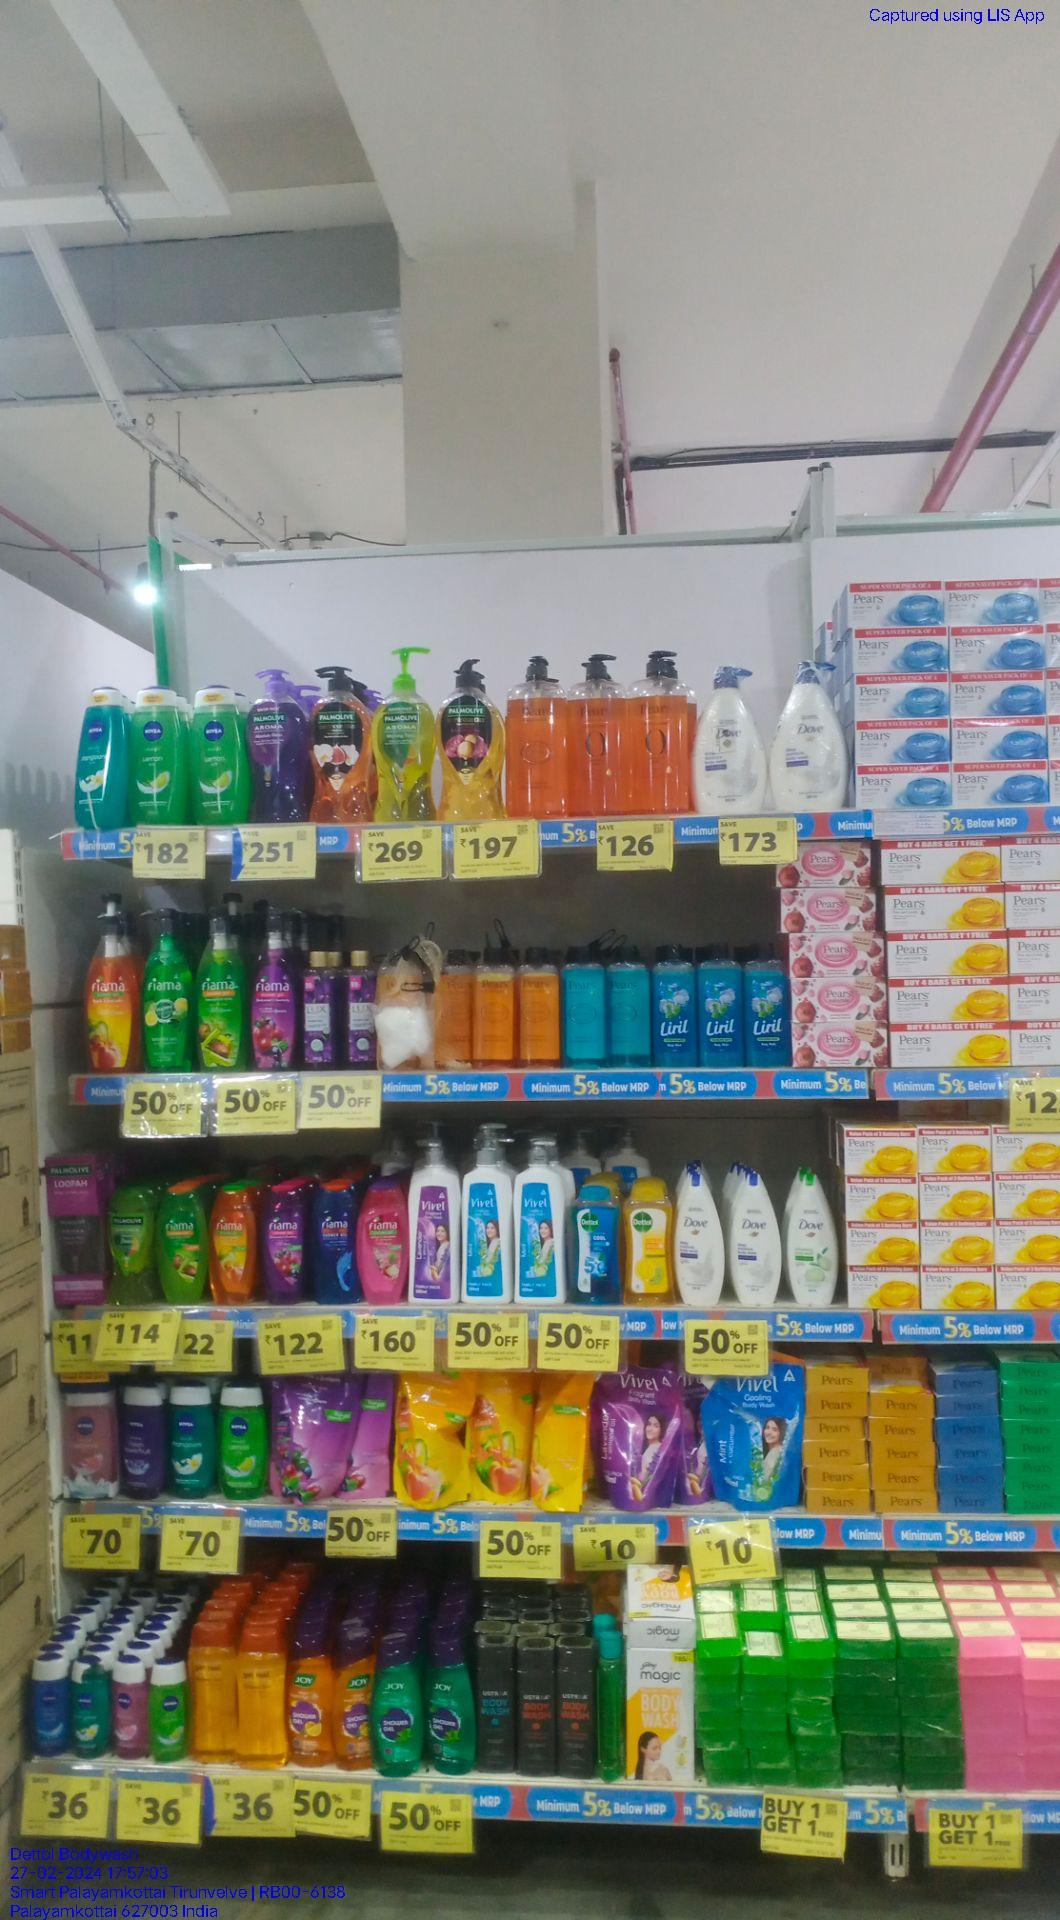Dettol_Bodywash_Cool: (569, 1186, 616, 1308)
Dettol_Bodywash_Refresh: (621, 1180, 672, 1309)
Dove_Deep_Moisture_Body_Wash_250ML: (730, 1169, 781, 1307), (676, 1177, 723, 1309)
Dove_Refreshing_Body_Wash_250ML: (788, 1171, 837, 1309)
Fiama_Shower_Gel_Lemongrass_and_Jojoba_250ML: (158, 1183, 205, 1304)
Fiama_Shower_Gel_Patchouli_and_Macadamia_250ML: (208, 1185, 256, 1314), (358, 1183, 407, 1305)
Get_Real_Shower_Gel_Moisturising_Glycerin_300ML: (189, 1624, 235, 1766), (239, 1626, 285, 1769)
Joy_Shower_Gel_Mandarin_and_Lemongrass_250ML: (288, 1622, 333, 1770), (337, 1635, 373, 1771)
Joy_Shower_Gel_Mint_and_Eucalyptus_250ML: (375, 1633, 422, 1779), (424, 1638, 474, 1776)
Liril_Cooling_Mint_Body_Wash_250ML: (654, 940, 700, 1070), (745, 938, 788, 1069), (704, 942, 745, 1070)
Lux_Black_Orchid_Scent_and_Juniper_Oil_Body_Wash_245ML: (303, 948, 341, 1069), (343, 948, 375, 1073)
Nivea_Shower_Gel_Frangipani_and_Oil_250ML: (77, 684, 124, 828), (168, 1382, 214, 1500), (72, 1659, 110, 1762)
Nivea_Shower_Gel_Fresh_Powerfruit_250ML: (119, 1382, 164, 1500)
Nivea_Shower_Gel_Lemon_and_Oil_250ML: (191, 684, 247, 825), (131, 688, 184, 825), (221, 1386, 268, 1500), (149, 1659, 187, 1763)
Nivea_Shower_Gel_Waterlily_and_Oil_250ML: (64, 1387, 115, 1484), (114, 1658, 146, 1759)
Palmolive_Aroma_Morning_Tonic_Shower_Gel_250ML: (107, 1184, 154, 1308)
Pears_Pure_Glycerin_and_Mint_Extracts_Body_Wash_250ML: (604, 944, 649, 1069), (561, 948, 603, 1069)
